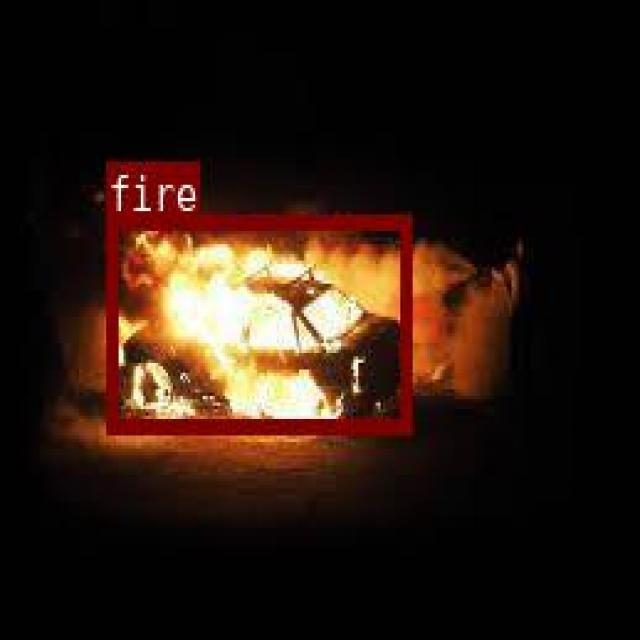fire: (105, 214, 409, 431)
